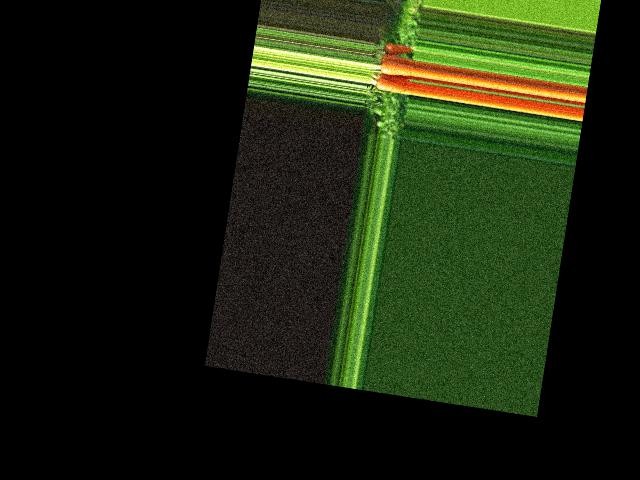carrot: (382, 39, 417, 59)
